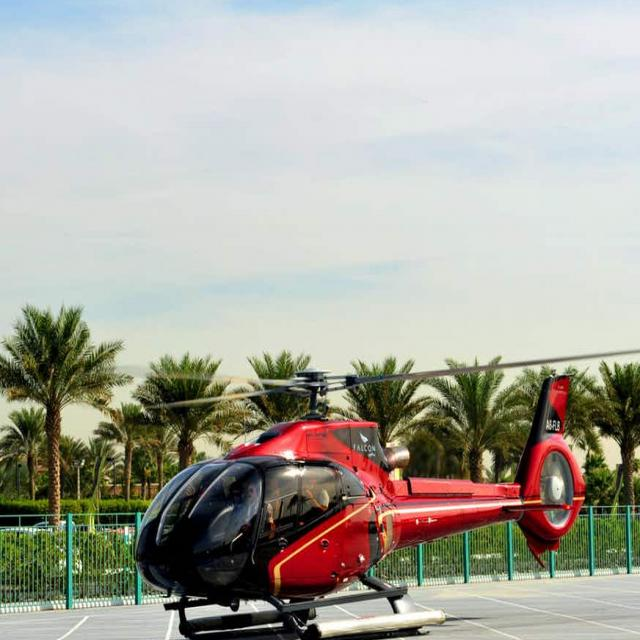helicopter: (104, 336, 640, 640)
